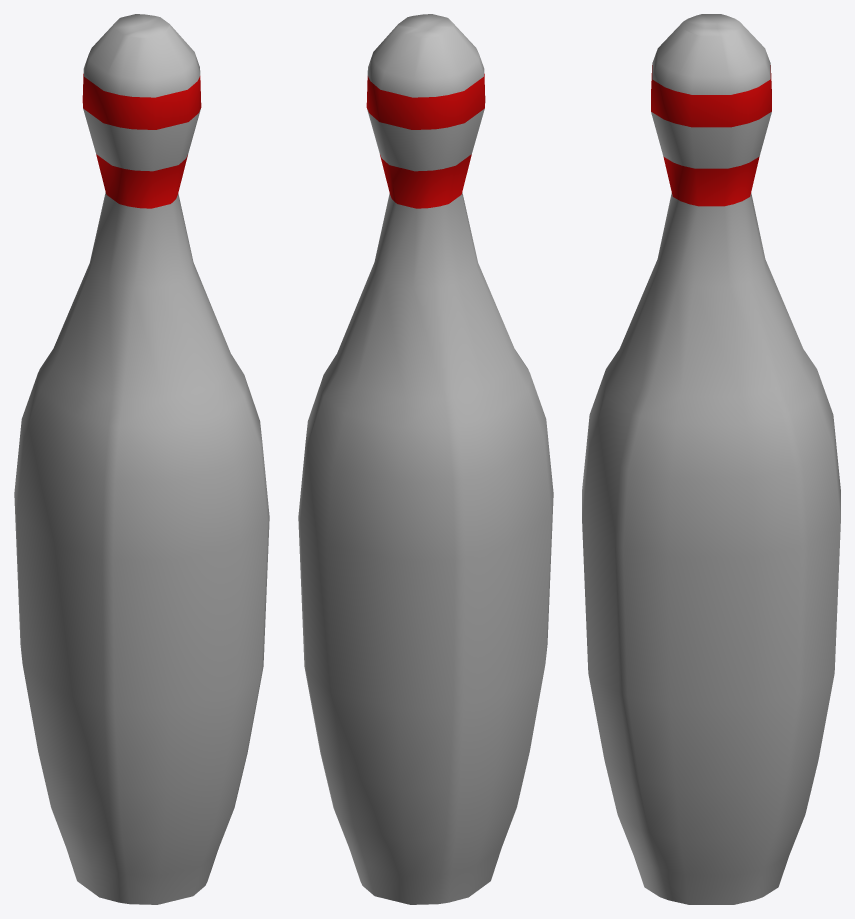
Rendered from Dm_Bolo.fbx.
3 views of the same model, side by side, from view 1: azimuth 30°, elevation 25°; view 2: azimuth 150°, elevation 25°; view 3: azimuth 270°, elevation 25° (orthographic).
Visible parts, largest first — view 1: Dm_Bolo; view 2: Dm_Bolo; view 3: Dm_Bolo.
Part boxes in pixels (x1,y1,x2,y2): Dm_Bolo: (14,14,269,904); Dm_Bolo: (298,14,553,904); Dm_Bolo: (582,14,840,904).
Bounding box in the file's own units: 14.58 × 57.02 × 15.67.
